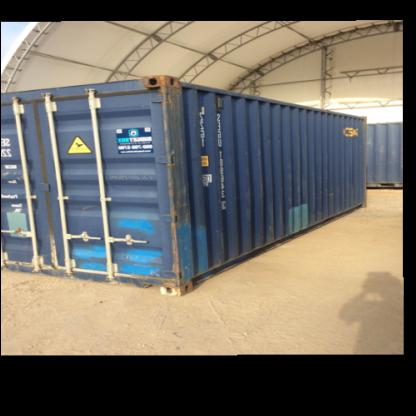Damage: (144, 70, 187, 286), (120, 263, 182, 291), (37, 228, 70, 272), (4, 251, 42, 273)
